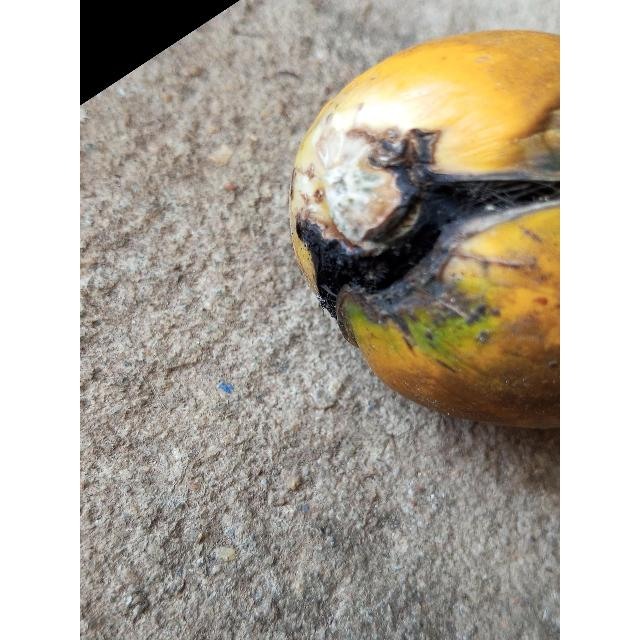damaged: (289, 29, 560, 433)
